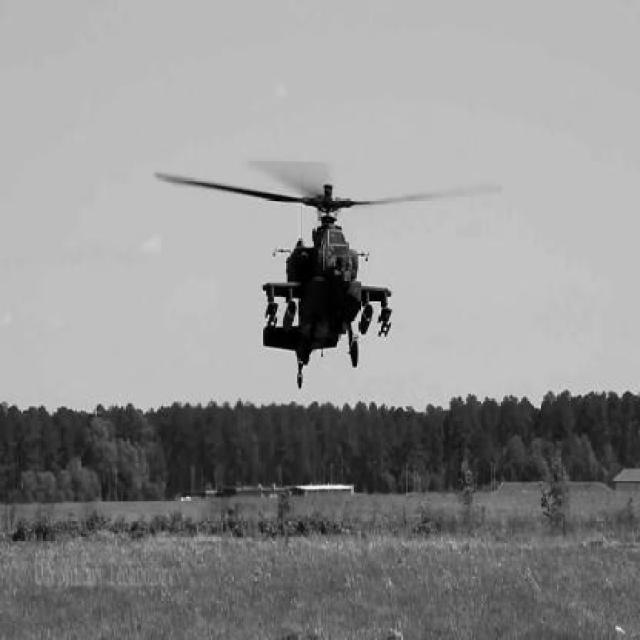Helicopter: (155, 157, 502, 393)
